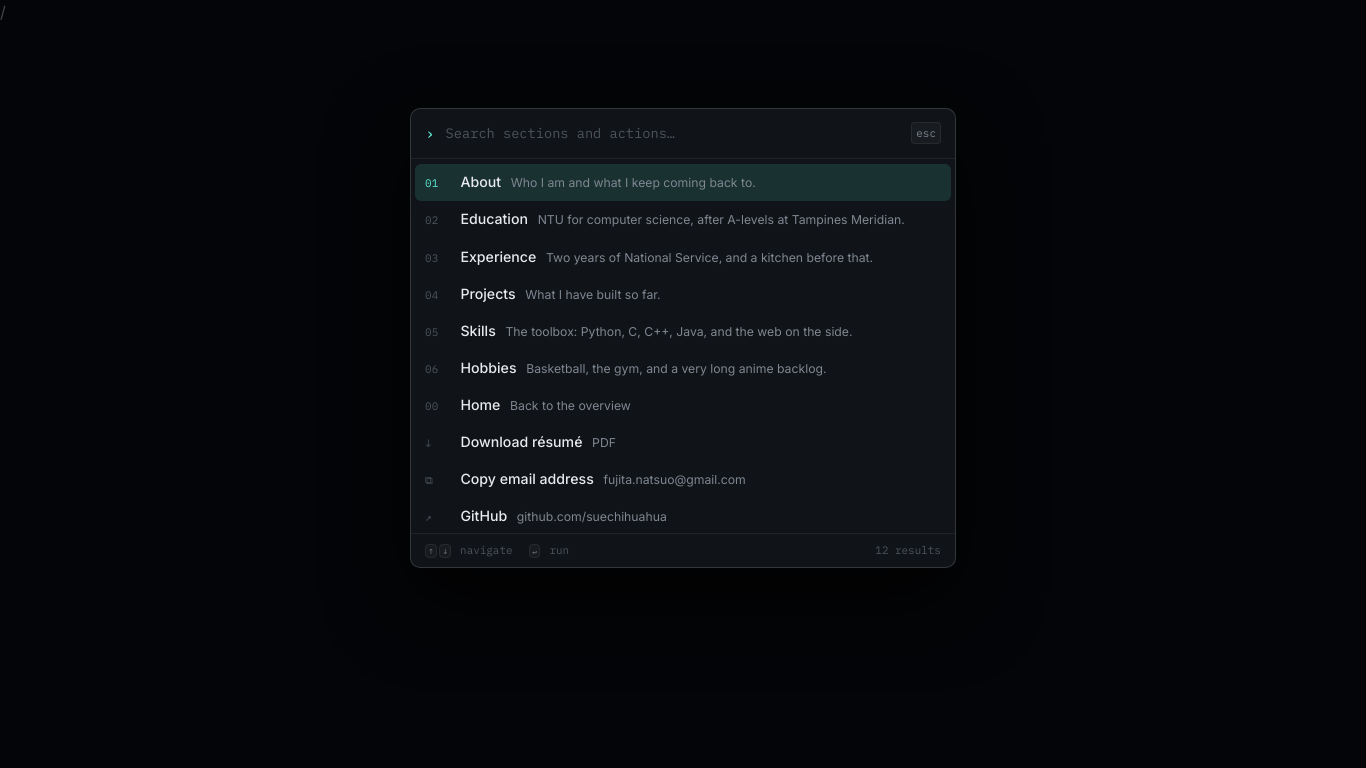
Test: CommandPalette › copies the email address without navigating away
Type "copy email" into the field labelled "Search sections and actions…" at (673, 133), box 444,123 -> 902,143
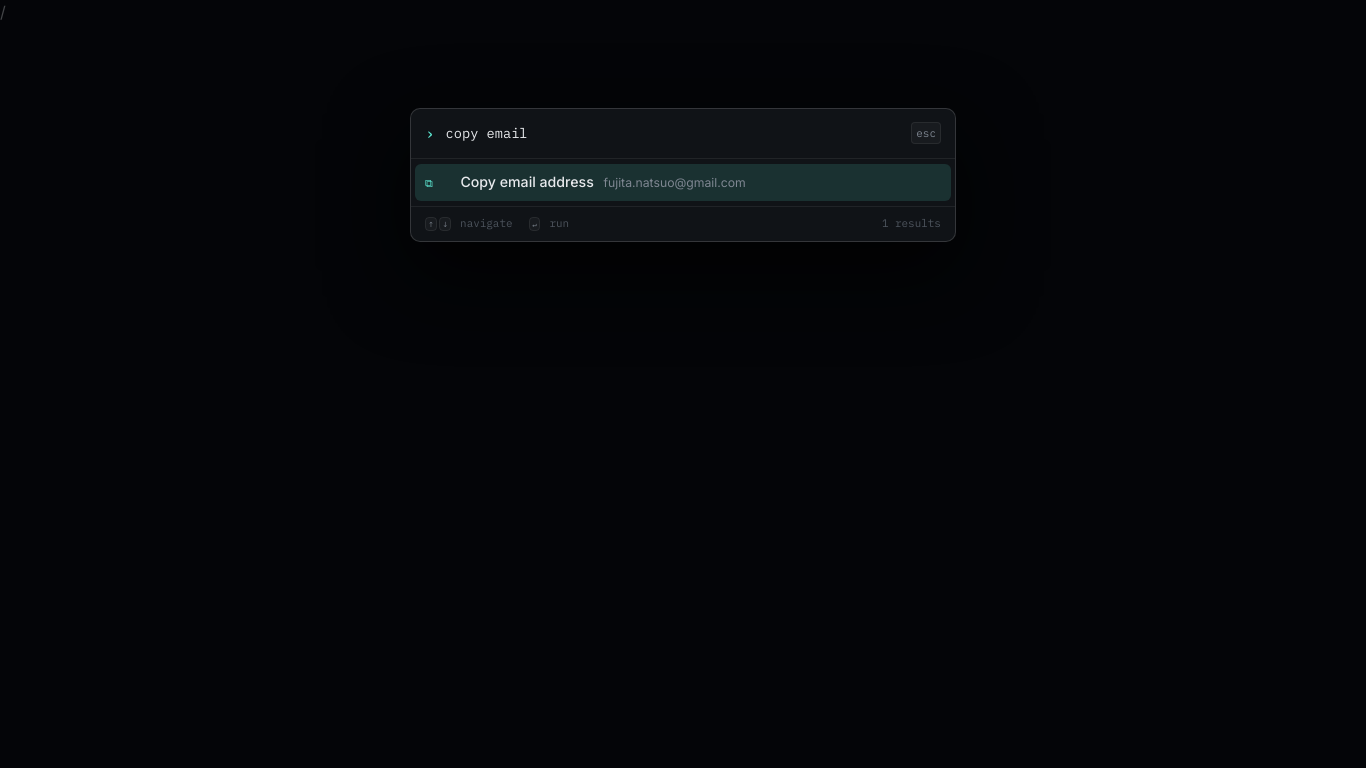
Press Enter in the field named "Search sections and actions", box 444,123 -> 902,143
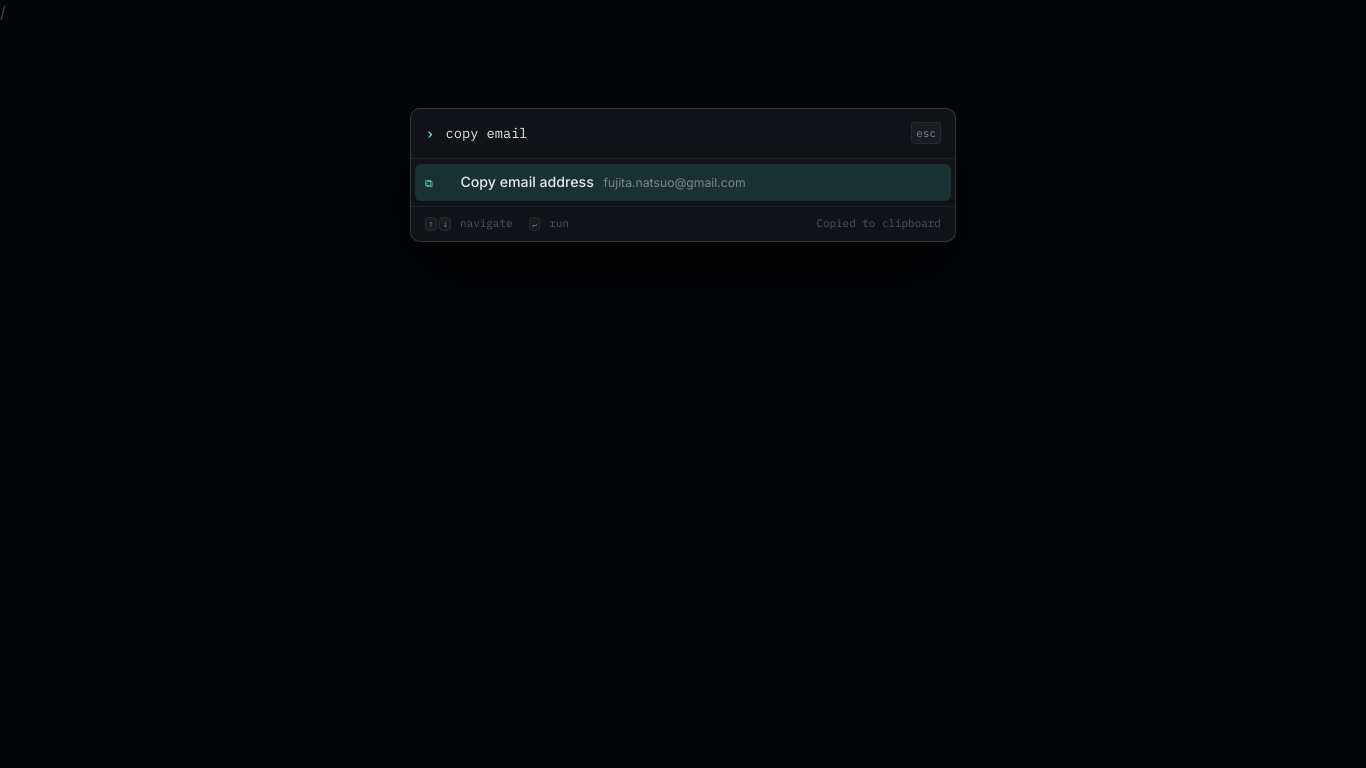
Expected: the text with test id "path" reads "/", 0,2 -> 6,22
Now the text "Copied to clipboard" is shown, box 816,215 -> 941,233
